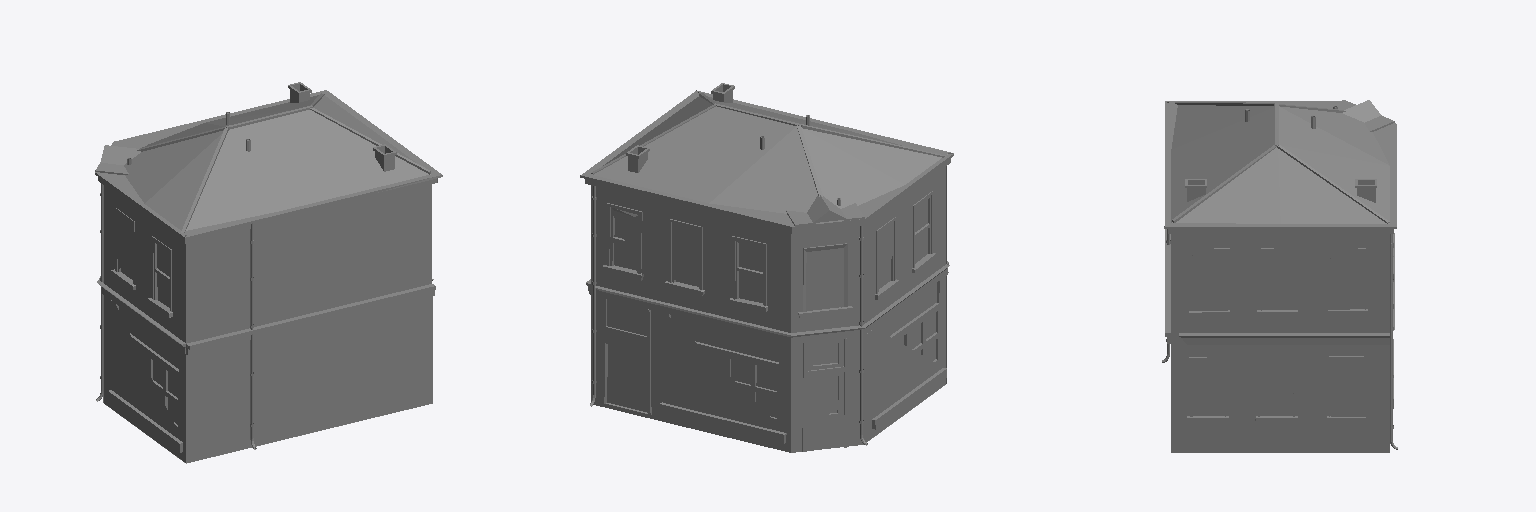
File: house_01.obj
The picture shows the model from 3 angles: view 1: azimuth 30°, elevation 25°; view 2: azimuth 150°, elevation 25°; view 3: azimuth 270°, elevation 25°; orthographic projection.
Parts seen in each view (by area): view 1: house; view 2: house; view 3: house.
Boxes of the visible parts, box(x1,y1,x2,y2) form: house: box(95, 82, 442, 463); house: box(580, 83, 953, 452); house: box(1162, 100, 1397, 452).
Size of the model in its own units: 165 by 168 by 130.